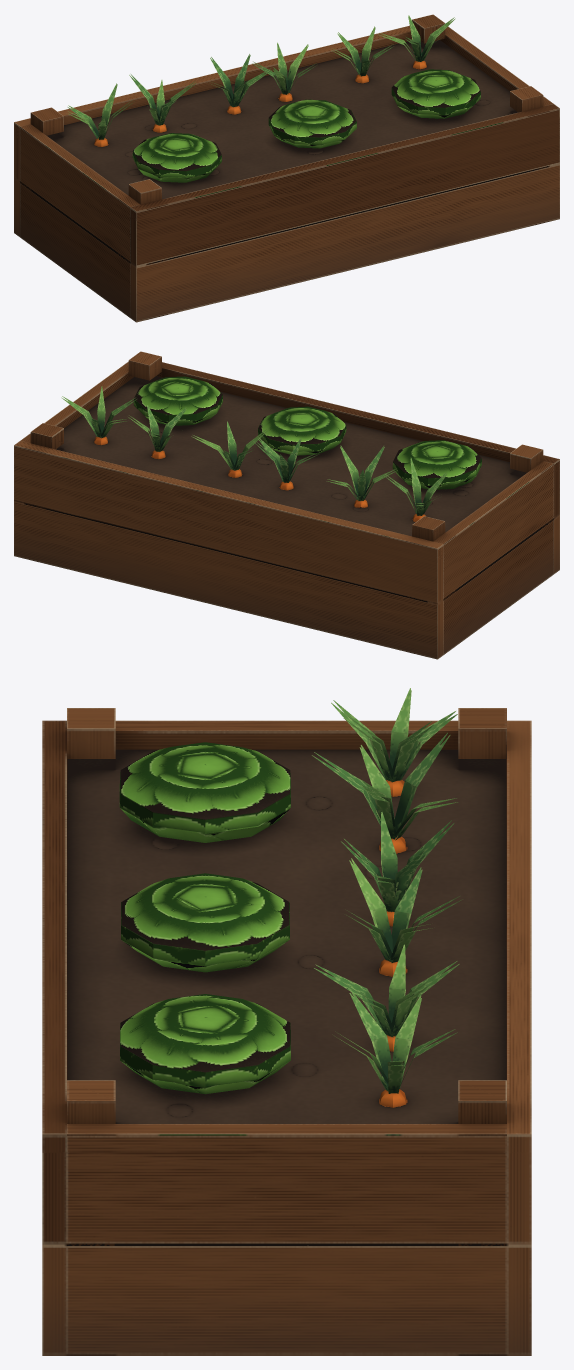
File: Raised_Bed_01.fbx
3 renders of one model, top to bottom at view 1: azimuth 30°, elevation 25°; view 2: azimuth 150°, elevation 25°; view 3: azimuth 270°, elevation 25°, orthographic. The views are drawn at different scales.
Visible parts, largest first — view 1: Raised_Bed_01; view 2: Raised_Bed_01; view 3: Raised_Bed_01.
Boxes of the visible parts, x1,y1,x2,y2 form: Raised_Bed_01: (14, 14, 559, 322); Raised_Bed_01: (14, 351, 559, 659); Raised_Bed_01: (42, 688, 531, 1355).
Size of the model in its own units: 1.2 by 0.4098 by 0.6.
1 material, 1 textured.
